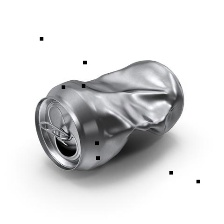can: (23, 57, 192, 175)
